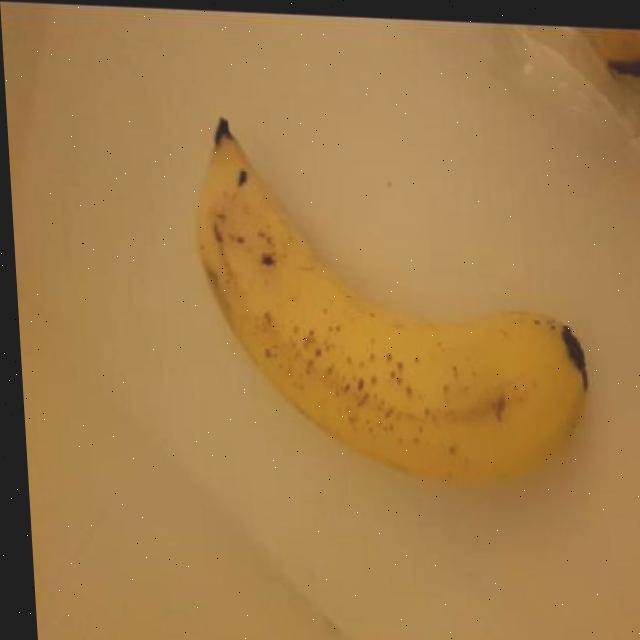banana: (177, 104, 600, 506)
